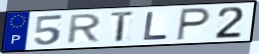2: (213, 6, 247, 40)
5: (32, 14, 65, 47)
L: (142, 11, 171, 42)
P: (175, 7, 213, 42)
R: (65, 13, 104, 45)
T: (110, 10, 138, 44)
